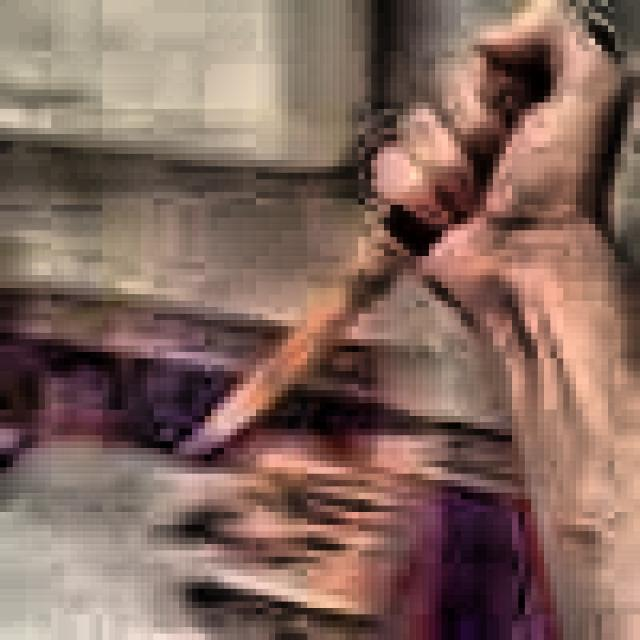knife: (182, 22, 619, 459)
